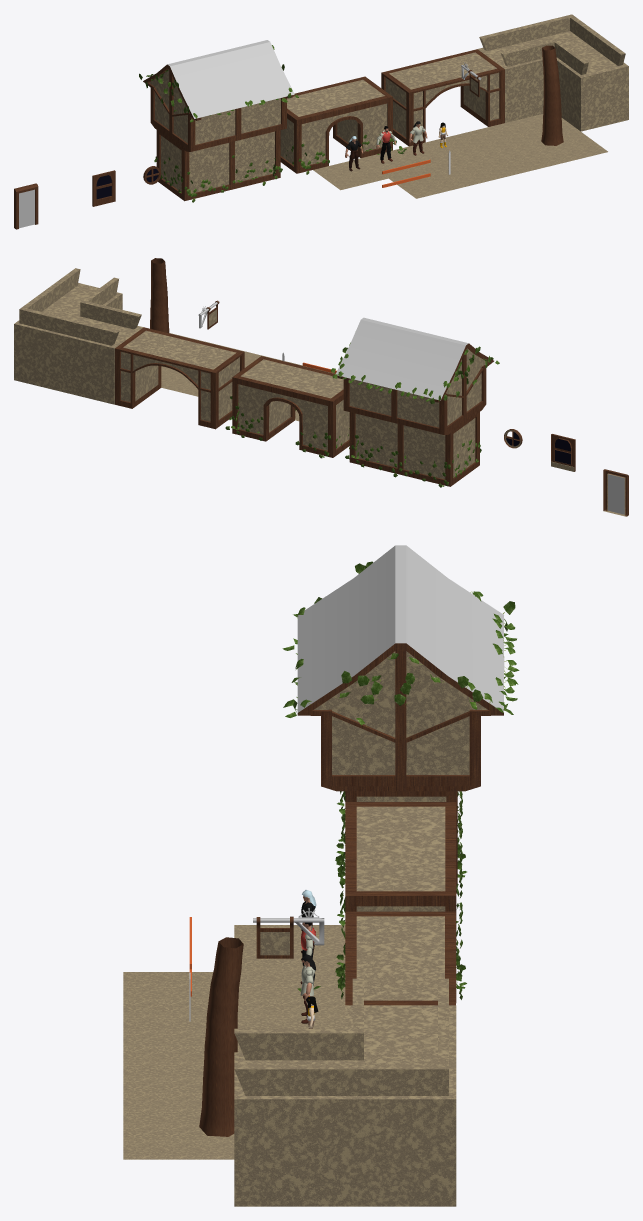
Rendered from TheTrialHaidAssets.fbx.
3 views of the same model, one above another, from view 1: azimuth 30°, elevation 25°; view 2: azimuth 150°, elevation 25°; view 3: azimuth 270°, elevation 25° (orthographic). The views are drawn at different scales.
Visible parts, largest first — view 1: Tiles, Corner, Arch, BigArch, Lower, Floor, Floor.001, Floor.003, Pine_Tree_03.002, Floor.002, Door, WindowS (+5 smaller); view 2: Tiles, Corner, Arch, BigArch, Lower, Pine_Tree_03.002, Door, Ivy.001, Floor, WindowS, Ivy, Ivy.002; view 3: Corner, Tiles, Arch, BigArch, Floor, Floor.001, Pine_Tree_03.002, Floor.003, Ivy.001, Floor.002, Sign, Lower (+2 smaller).
Part boxes in pixels (box(x1,y1,x2,y2)): Tiles: box(143, 40, 294, 151); Corner: box(477, 14, 628, 131); Arch: box(280, 76, 392, 173); BigArch: box(381, 49, 504, 146); Lower: box(156, 130, 280, 201); Floor: box(409, 123, 559, 186); Floor.001: box(361, 146, 463, 198); Floor.003: box(505, 114, 607, 163); Pine_Tree_03.002: box(541, 45, 563, 145); Floor.002: box(313, 158, 387, 190); Door: box(14, 183, 38, 229); WindowS: box(92, 170, 115, 206); Tiles: box(336, 317, 493, 434); Corner: box(14, 268, 143, 404); Arch: box(232, 356, 349, 457); BigArch: box(115, 327, 244, 429); Lower: box(349, 412, 479, 486); Pine_Tree_03.002: box(150, 258, 169, 333); Door: box(603, 469, 628, 516); Ivy.001: box(331, 342, 499, 403); Floor: box(161, 341, 302, 396); WindowS: box(551, 434, 575, 471); Ivy: box(345, 435, 481, 487); Ivy.002: box(225, 396, 349, 458); Corner: box(234, 978, 456, 1206); Tiles: box(297, 545, 504, 791); Arch: box(345, 802, 456, 1002); BigArch: box(345, 911, 455, 1005); Floor: box(123, 1019, 345, 1112); Floor.001: box(123, 972, 345, 1018); Pine_Tree_03.002: box(199, 937, 243, 1136); Floor.003: box(123, 1112, 234, 1159); Ivy.001: box(282, 561, 519, 726); Floor.002: box(234, 925, 345, 971); Sign: box(253, 908, 324, 958); Lower: box(345, 791, 457, 893).
Bounding box in the file's own units: 35.69 × 7.7 × 10.71.
